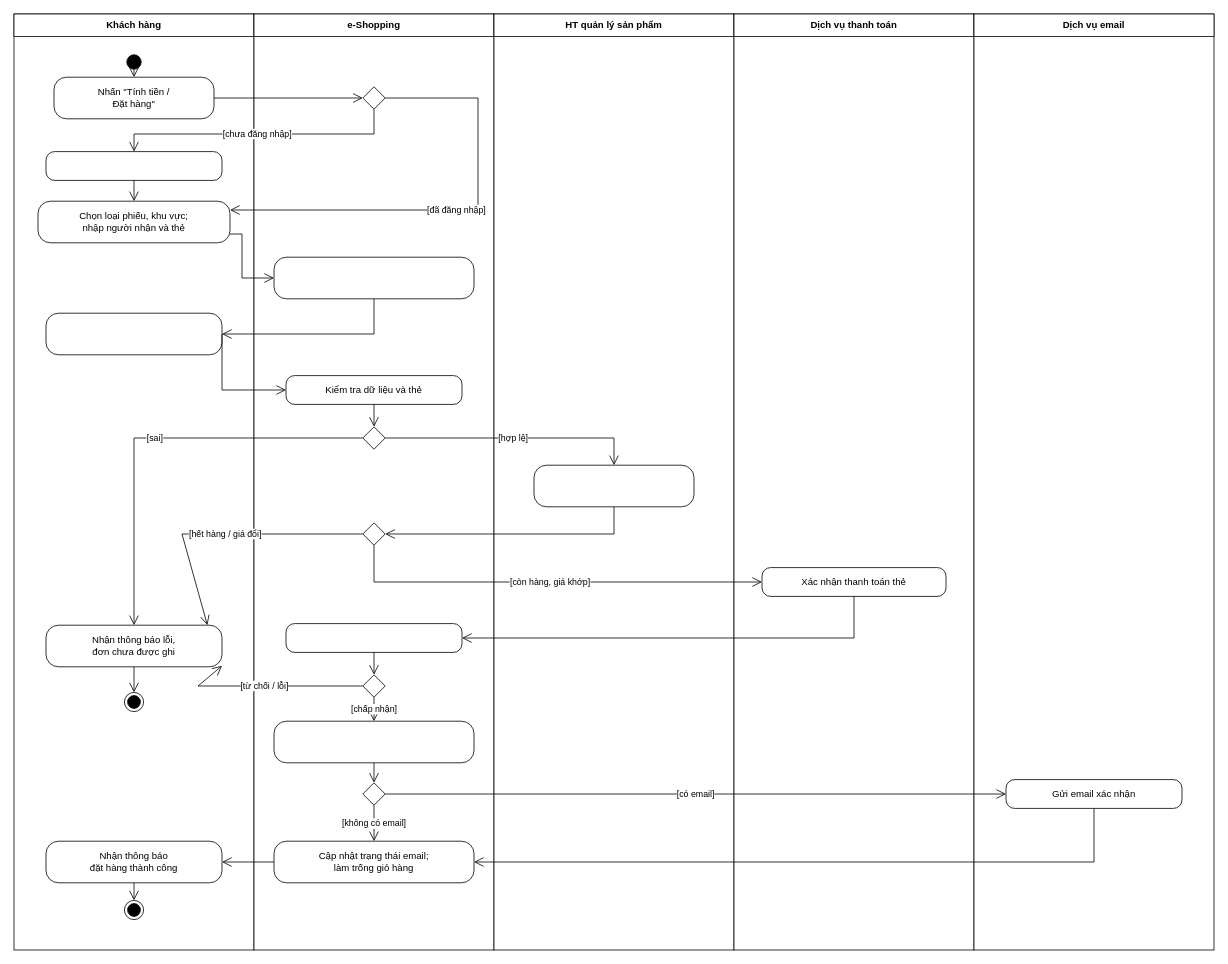
This 1228x964 diagram has some shape labels left out. The centre of each missing label's shape, as x and y in pixels:
Ghi nhật ký giao dịch: the point at 373,637
Ghi đơn hàng và chi tiết (một transaction): the point at 373,741
Nhấn "Đặt hàng và thanh toán": the point at 133,333
Tính phí giao hàng, lệ phí thẻ; hiển thị tổng tiền: the point at 373,277
Đăng nhập hoặc đăng ký: the point at 133,165
Đối chiếu giá và tồn kho: the point at 613,485
